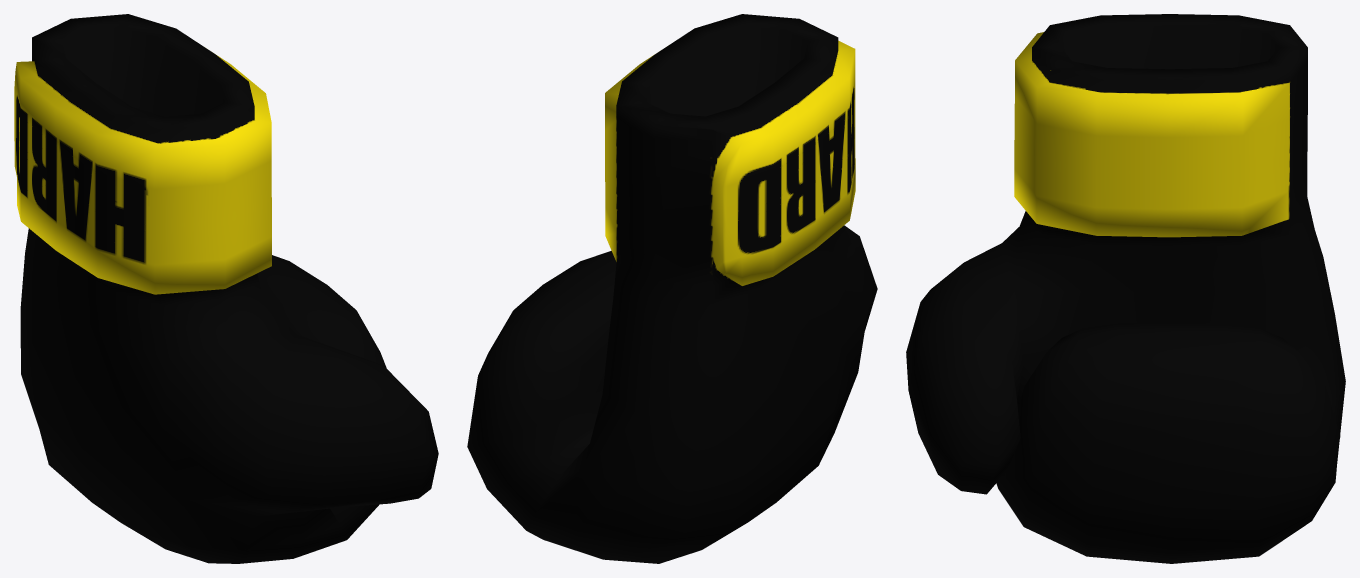
The model's file is right.glb.
3 views of the same model, side by side, from view 1: azimuth 30°, elevation 25°; view 2: azimuth 150°, elevation 25°; view 3: azimuth 270°, elevation 25° (orthographic). The views are drawn at different scales.
Parts seen in each view (by area): view 1: RightGlove; view 2: RightGlove; view 3: RightGlove.
Part boxes in pixels (x1,y1,x2,y2): RightGlove: [14, 14, 438, 563]; RightGlove: [467, 14, 877, 563]; RightGlove: [906, 14, 1345, 563].
Bounding box in the file's own units: 0.1803 × 0.2797 × 0.2442.
Materials: 1 (1 with a texture image).
